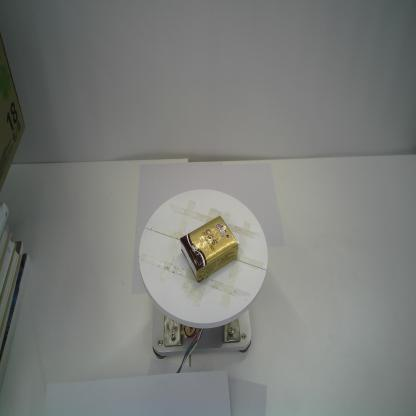Tissue: (180, 215, 238, 282)
